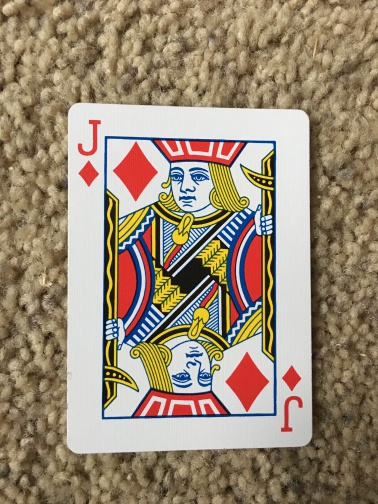jack: (64, 102, 313, 453)
